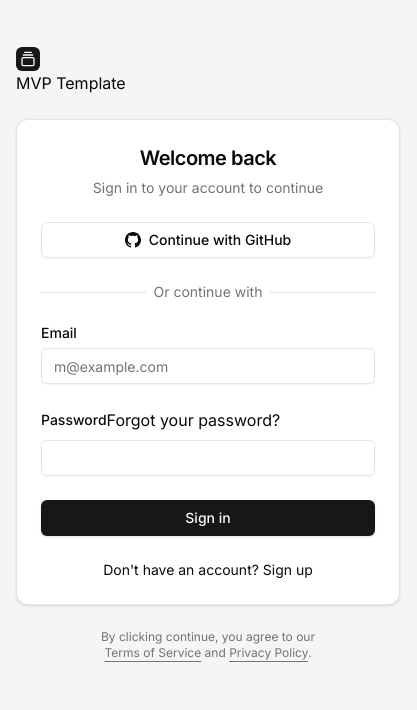
Test case: SignInPage › shows error message when sign in fails
The width and height of the screenshot is (417, 710).
Type "test@example.com" into the field labelled "Email".
click(208, 366); type("test@example.com")  # box [41,348,375,384]
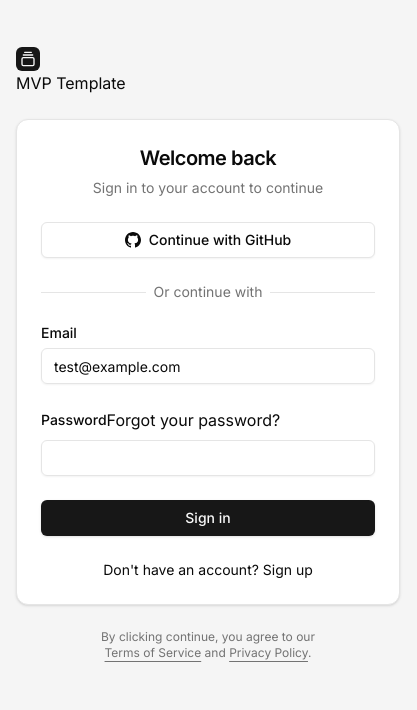
Type "wrongpassword" into the password field labelled "Password".
click(208, 458); type("wrongpassword")  # box [41,440,375,476]
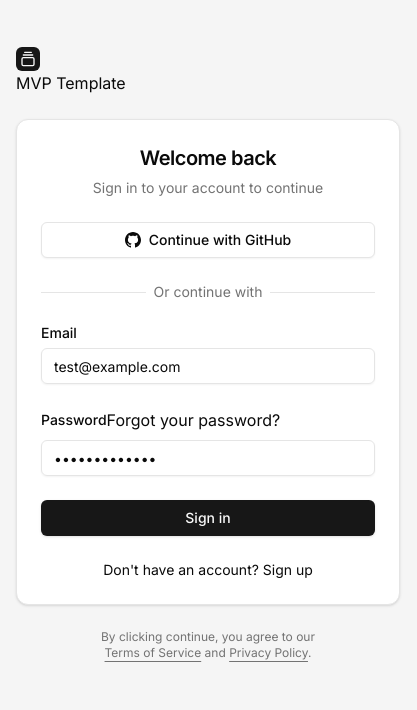
Click the button "Sign in".
click(208, 518)  # box [41,500,375,536]
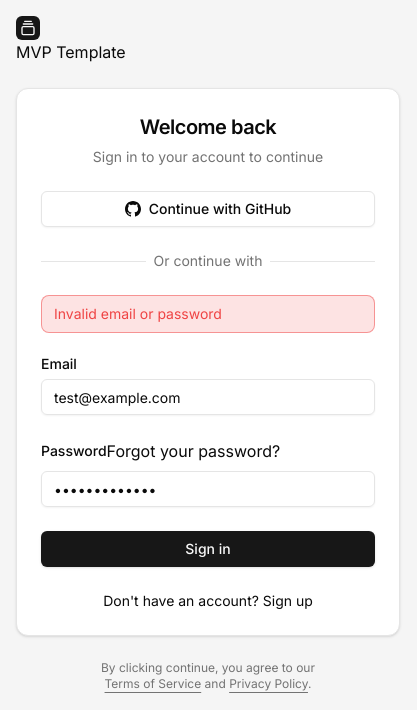
Now the text "Invalid email or password" is shown, box [41,295,375,333]
